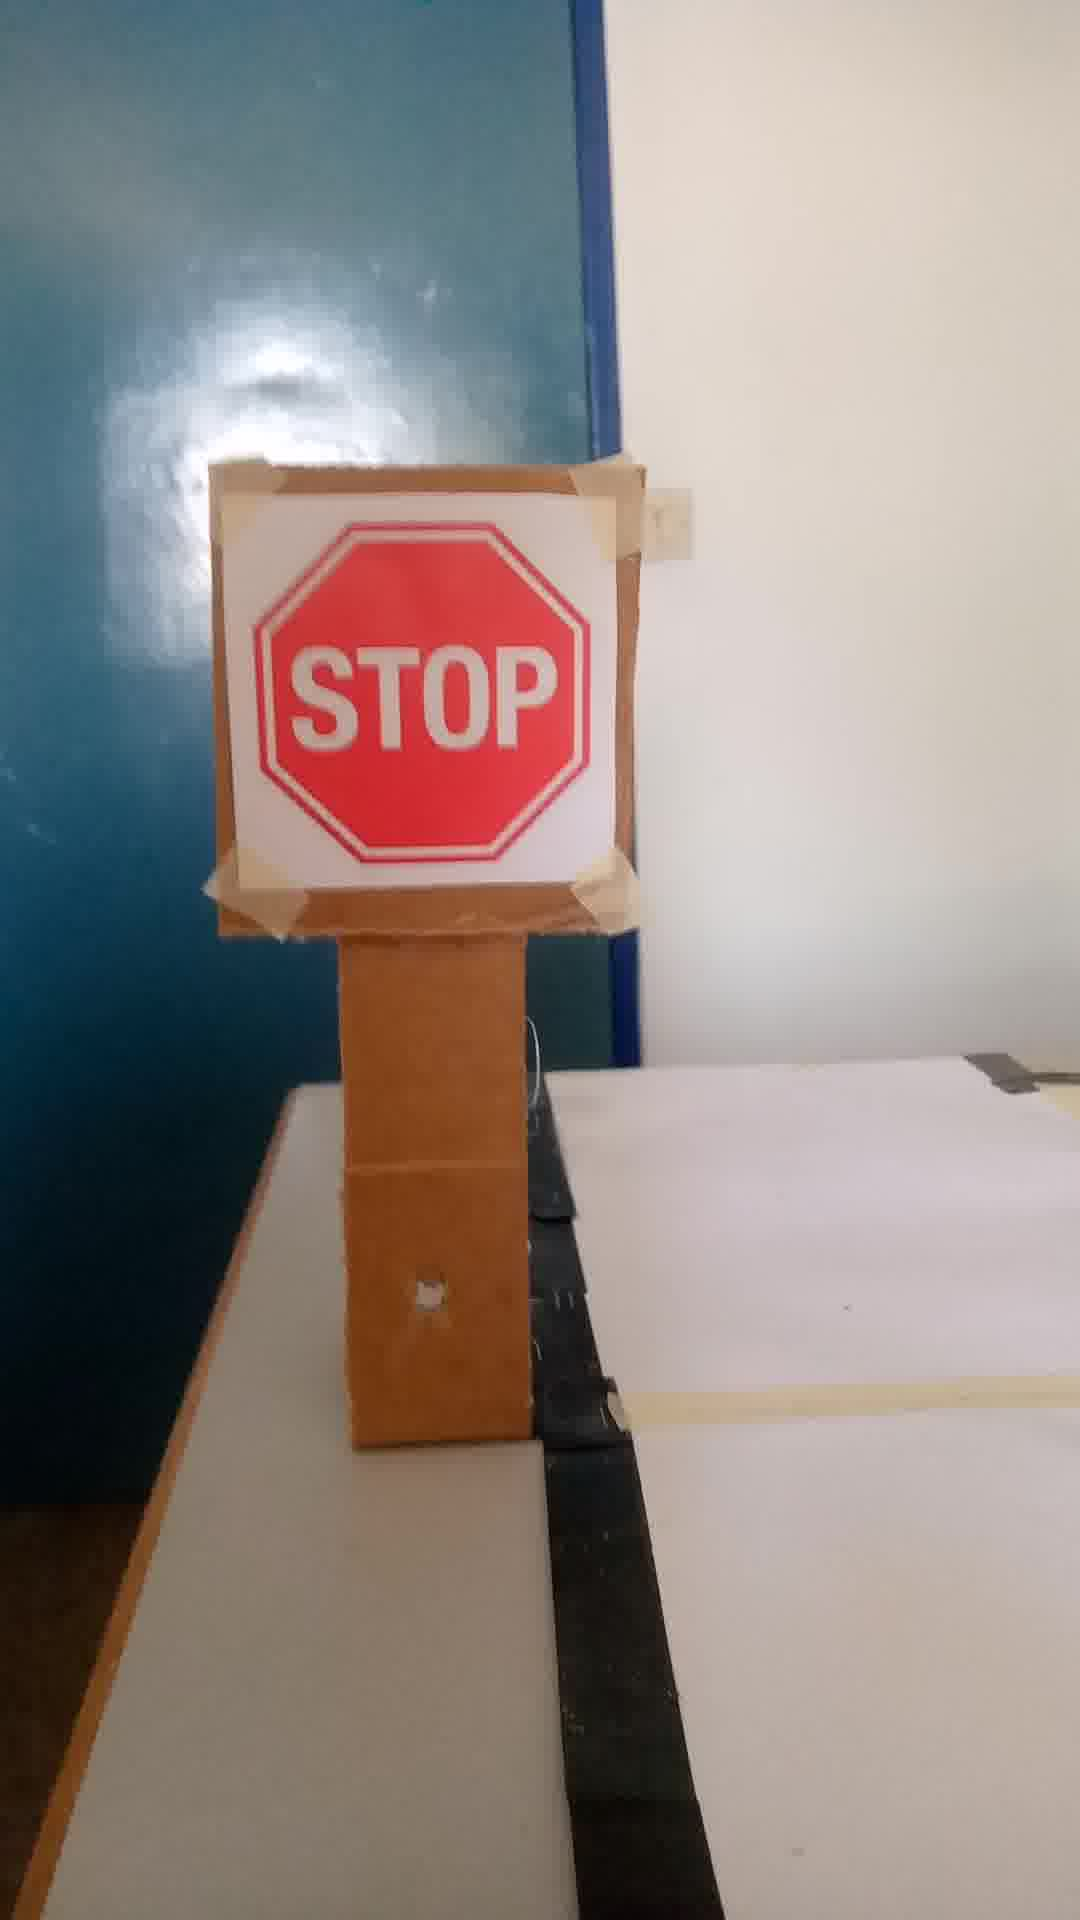panel101: (204, 471, 644, 920)
